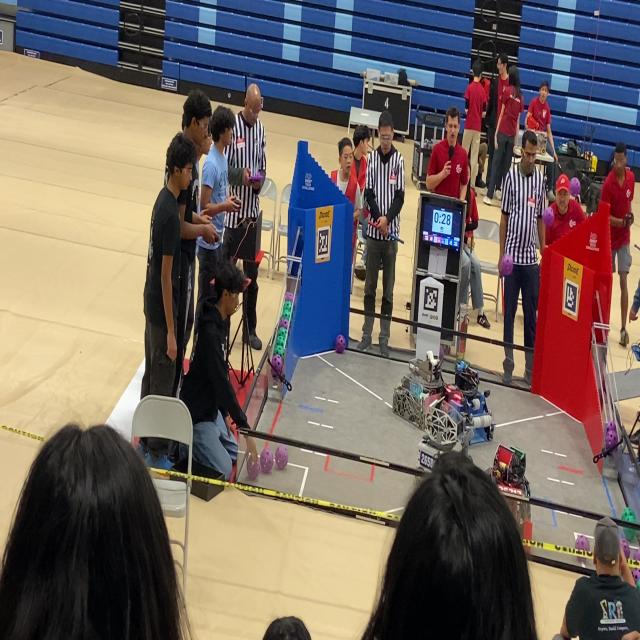artifact_green: (272, 355, 282, 378), (622, 507, 636, 523), (621, 538, 630, 560), (622, 507, 635, 522), (274, 345, 284, 357), (274, 338, 286, 347), (281, 304, 290, 316), (279, 319, 289, 329), (277, 328, 286, 339), (276, 340, 286, 349), (285, 292, 294, 302), (281, 310, 290, 319), (276, 338, 285, 347), (283, 310, 291, 320), (283, 302, 292, 310), (281, 311, 287, 322), (281, 306, 287, 317), (276, 334, 285, 341), (277, 327, 286, 334), (284, 301, 292, 308), (288, 306, 293, 316), (282, 347, 286, 357), (637, 582, 639, 589)
artifact_purple: (260, 448, 273, 473), (275, 445, 288, 470), (247, 457, 260, 480), (605, 427, 618, 449), (575, 534, 590, 552), (271, 355, 283, 377), (335, 334, 346, 354), (543, 207, 554, 227), (502, 255, 513, 275), (570, 177, 580, 197), (621, 538, 630, 559), (632, 568, 639, 584), (279, 318, 289, 328), (606, 420, 616, 430), (285, 292, 294, 302), (439, 344, 444, 361), (633, 548, 639, 561)
